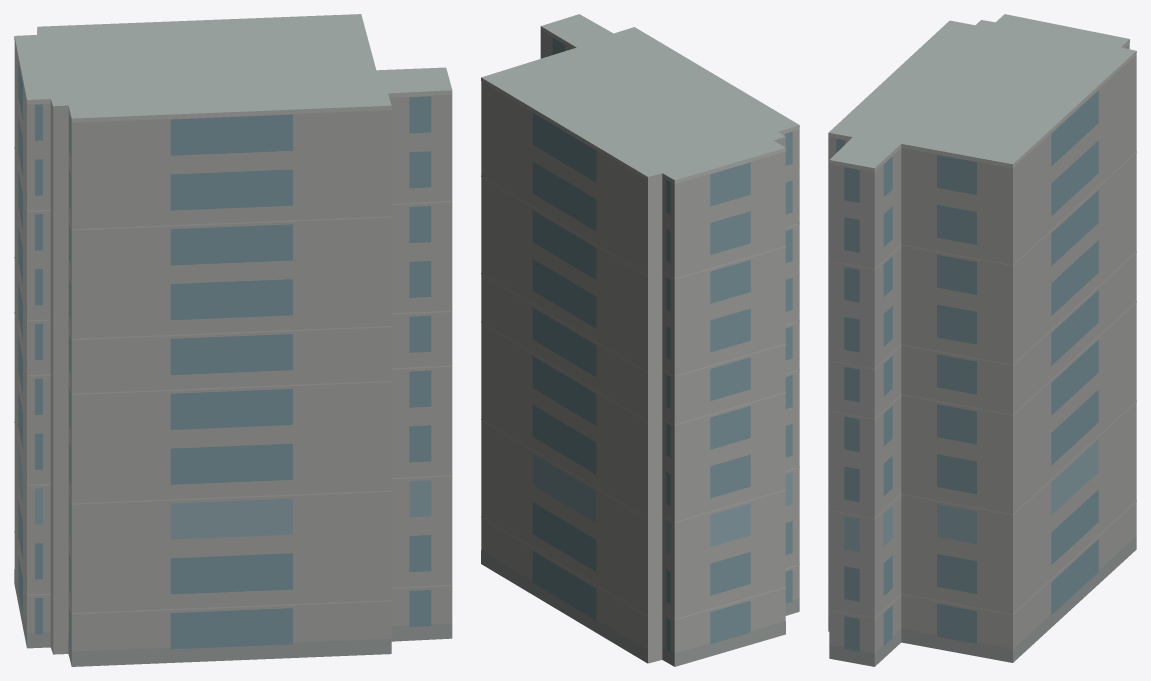
Rendered from survey-upis-32486794.glb.
3 views of the same model, side by side, from view 1: azimuth 30°, elevation 25°; view 2: azimuth 150°, elevation 25°; view 3: azimuth 270°, elevation 25° (orthographic). The views are drawn at different scales.
Parts seen in each view (by area): view 1: survey-upis-32486794.tmp; view 2: survey-upis-32486794.tmp; view 3: survey-upis-32486794.tmp.
Boxes of the visible parts, box(x1,y1,x2,y2) form: survey-upis-32486794.tmp: box(14, 14, 452, 666); survey-upis-32486794.tmp: box(481, 14, 799, 666); survey-upis-32486794.tmp: box(828, 14, 1136, 666).
Bounding box in the file's own units: 20.26 × 30.5 × 17.11.
